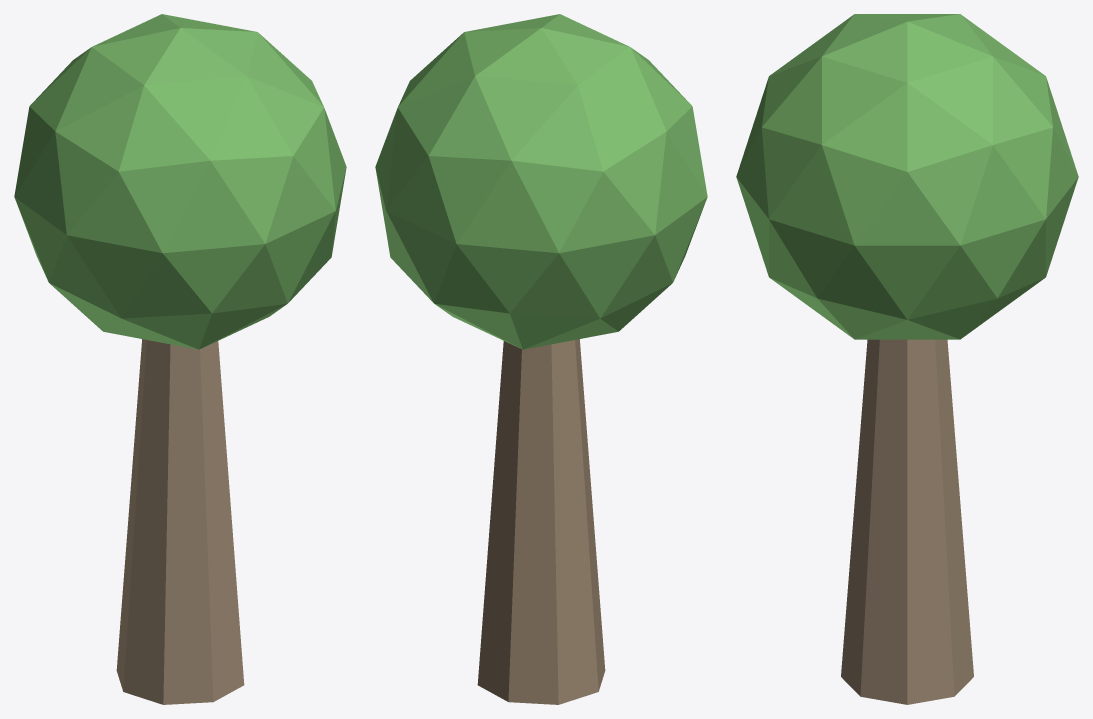
The model's file is oak_large.glb.
3 views of the same model, side by side, from view 1: azimuth 30°, elevation 25°; view 2: azimuth 150°, elevation 25°; view 3: azimuth 270°, elevation 25° (orthographic).
Parts seen in each view (by area): view 1: Deciduous; view 2: Deciduous; view 3: Deciduous.
Boxes of the visible parts, x1,y1,x2,y2 form: Deciduous: [14, 14, 346, 704]; Deciduous: [375, 14, 707, 704]; Deciduous: [736, 14, 1078, 704].
Bounding box in the file's own units: 1.71 × 3.8 × 1.8.
